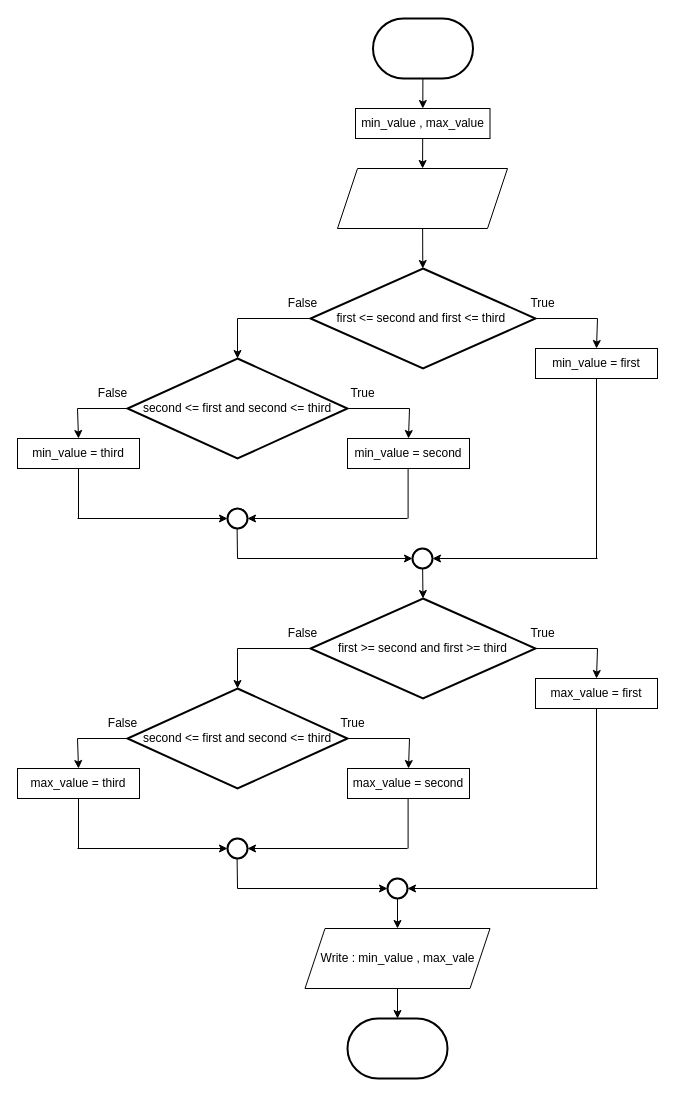
Some shapes in this 675 by 1096 pixel diagram are drawn without their labels. Each missing label, with the centre of its shape:
"End" goes at pixel 397 1048.
"Read : first , second , third" goes at pixel 422 198.
"Start" goes at pixel 423 48.
